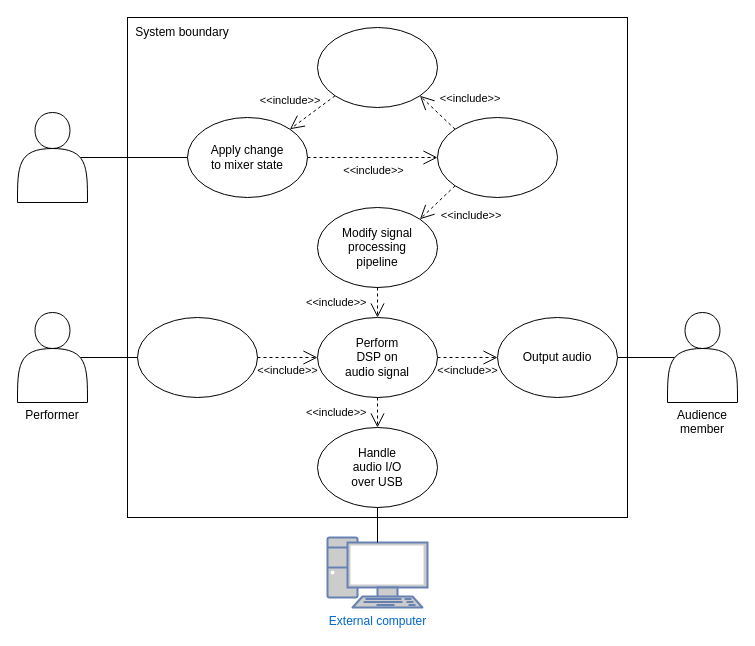
This 755x646 diagram has some shape labels left out. Each missing label, with the centre of its shape:
"Audio engineer" belongs at (52,157).
"Input audio" belongs at (197,357).
"Manage central state" belongs at (497,157).
"Perform AI inferencing" belongs at (377,67).
